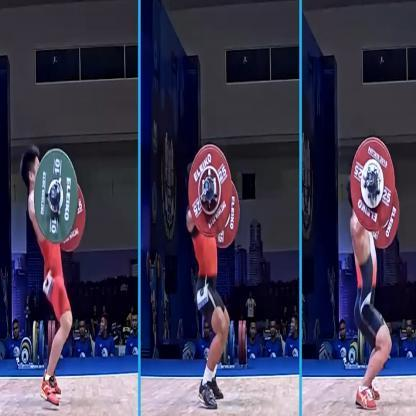barbell: (188, 142, 239, 250), (352, 136, 400, 247), (34, 147, 84, 249)
